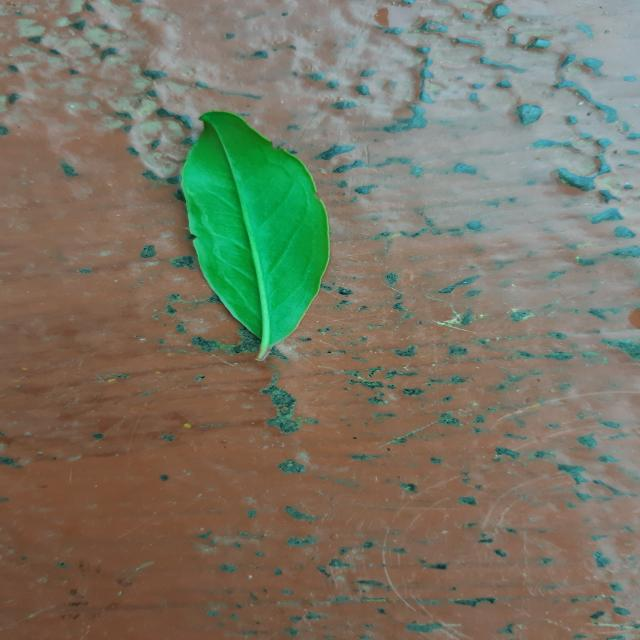pomgranate: (182, 111, 329, 360)
